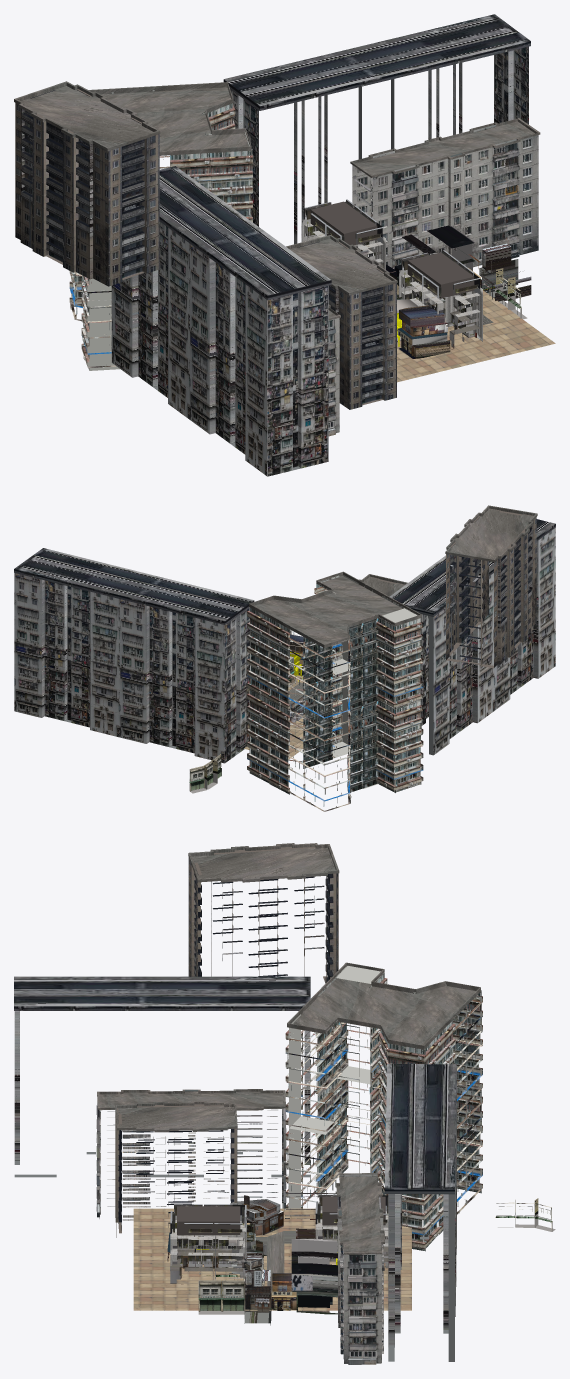
File: street.glb
3 views of the same model, one above another, from view 1: azimuth 30°, elevation 25°; view 2: azimuth 150°, elevation 25°; view 3: azimuth 270°, elevation 25° (orthographic). The views are drawn at different scales.
Parts seen in each view (by area): view 1: Cube.006, Cube.013, Cube.003, Cube.016, Cube.005, Cube.011, Cube.014, Plane.006, Cube.015, дом11.002, дом16.002, Cube.012 (+1 smaller); view 2: Cube.016, Cube.005, Cube.006, Cube.013, Cube.011, Plane.004, дом9.003; view 3: Cube.005, Cube.016, Cube.006, Cube.013, Cube.003, Cube.012, Cube.011, Plane.006, Cube.014, дом18.003, Plane.004, Cube.015 (+6 smaller).
Part boxes in pixels (box(x1,y1,x2,y2)): Cube.006: box(111, 166, 331, 476); Cube.013: box(14, 81, 160, 286); Cube.003: box(350, 118, 540, 269); Cube.016: box(223, 14, 530, 244); Cube.005: box(69, 82, 253, 370); Cube.011: box(286, 235, 397, 409); Cube.014: box(399, 250, 482, 349); Plane.006: box(397, 290, 555, 382); Cube.015: box(302, 199, 385, 269); дом11.002: box(397, 304, 450, 358); дом16.002: box(479, 243, 531, 301); Cube.012: box(328, 304, 340, 436); Cube.016: box(14, 548, 254, 763); Cube.005: box(247, 571, 423, 811); Cube.006: box(389, 519, 555, 755); Cube.013: box(445, 505, 537, 668); Cube.011: box(359, 574, 407, 634); Plane.004: box(244, 717, 333, 759); дом9.003: box(189, 765, 207, 793); Cube.005: box(285, 962, 482, 1251); Cube.016: box(384, 1064, 456, 1361); Cube.006: box(14, 976, 310, 1177); Cube.013: box(188, 843, 339, 983); Cube.003: box(336, 1173, 384, 1364); Cube.012: box(96, 1089, 286, 1220); Cube.011: box(115, 1101, 237, 1237); Plane.006: box(133, 1208, 271, 1310); Cube.014: box(170, 1204, 246, 1284); дом18.003: box(291, 1239, 337, 1314); Plane.004: box(272, 1208, 411, 1310); Cube.015: box(315, 1194, 388, 1268).
Bounding box in the file's own units: 70.5 × 36.81 × 63.41.
Materials: 22 (19 with a texture image).
